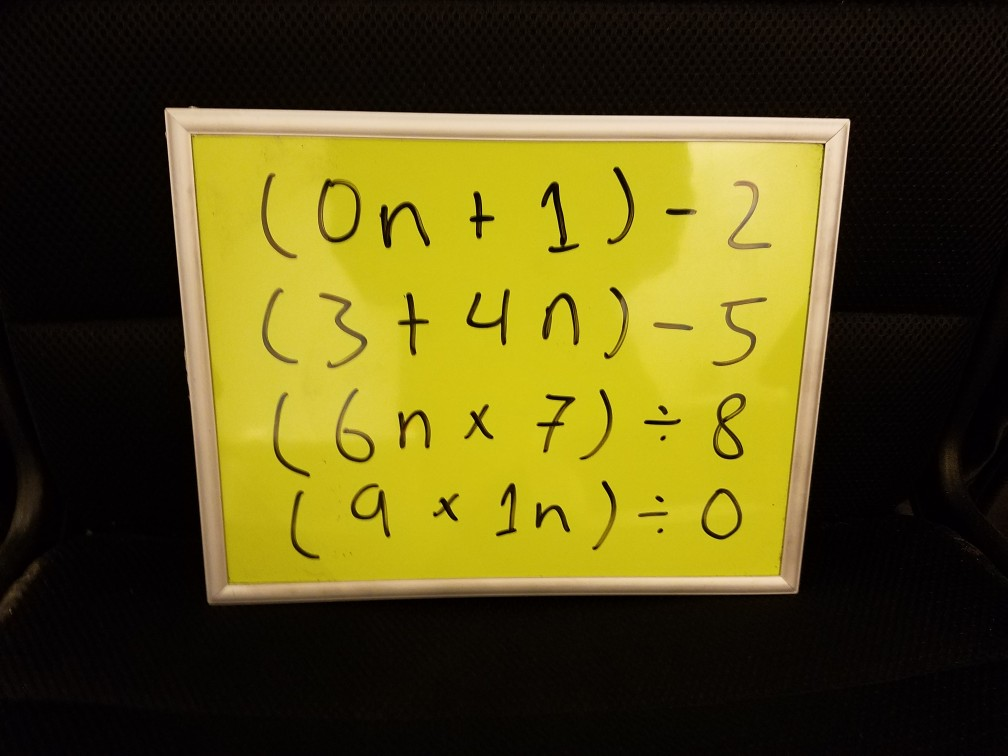(: (264, 386, 316, 481), (252, 168, 297, 263), (256, 285, 299, 371), (283, 485, 322, 565)
): (597, 156, 642, 250), (598, 275, 635, 364), (586, 474, 622, 558), (581, 381, 616, 465)
+: (392, 291, 436, 356), (463, 186, 498, 242)
-: (662, 191, 705, 223), (651, 309, 697, 338)
0: (309, 170, 365, 250), (698, 483, 747, 546)
1: (530, 177, 583, 259), (489, 476, 526, 545)
2: (726, 174, 771, 262)
3: (316, 285, 374, 373)
4: (459, 276, 523, 352)
5: (713, 288, 770, 370)
6: (327, 383, 382, 468)
7: (528, 382, 579, 458)
8: (706, 387, 754, 465)
9: (348, 483, 394, 542)
div: (633, 392, 686, 444), (632, 486, 677, 536)
n: (373, 194, 435, 256), (538, 286, 585, 351), (392, 400, 435, 454), (529, 494, 573, 540)
x: (465, 398, 499, 445), (433, 486, 463, 528)
